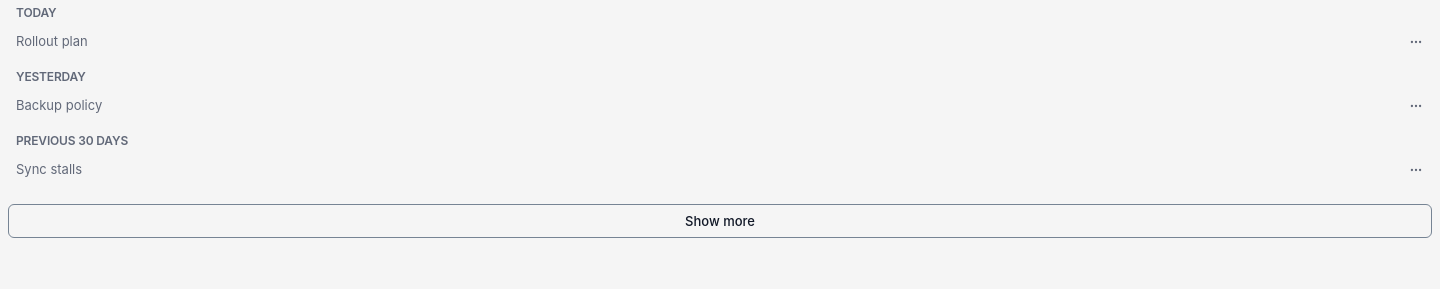
Test: ConversationList › degrades to an amber strip when a refresh fails over a cached list
The width and height of the screenshot is (1440, 289).
Click the button with test id "conversations-show-more". click: (720, 221)
box: [8, 204, 1432, 238]
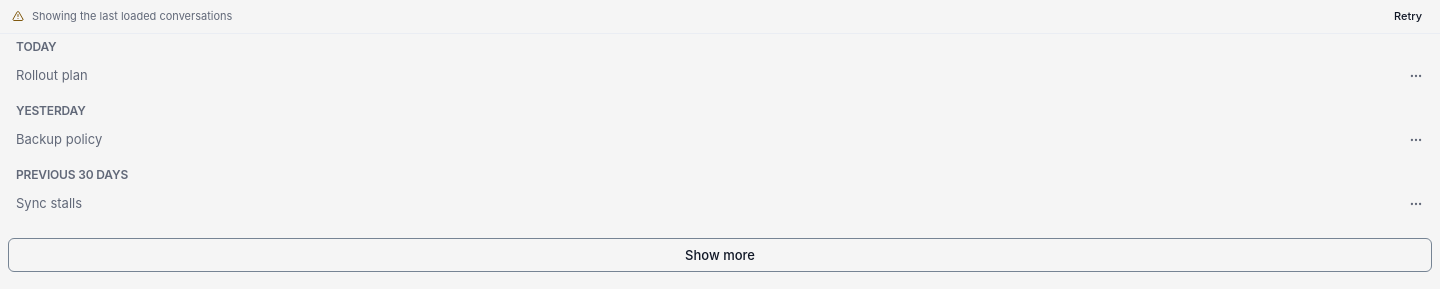
Expected: the number of links is 3, [16, 67, 88, 83]; [16, 131, 102, 147]; [16, 195, 82, 211]
Result: the text "Showing the last loaded conversations" is shown at [32, 9, 232, 23]
Result: the button "Retry" is shown at [1388, 6, 1428, 26]
